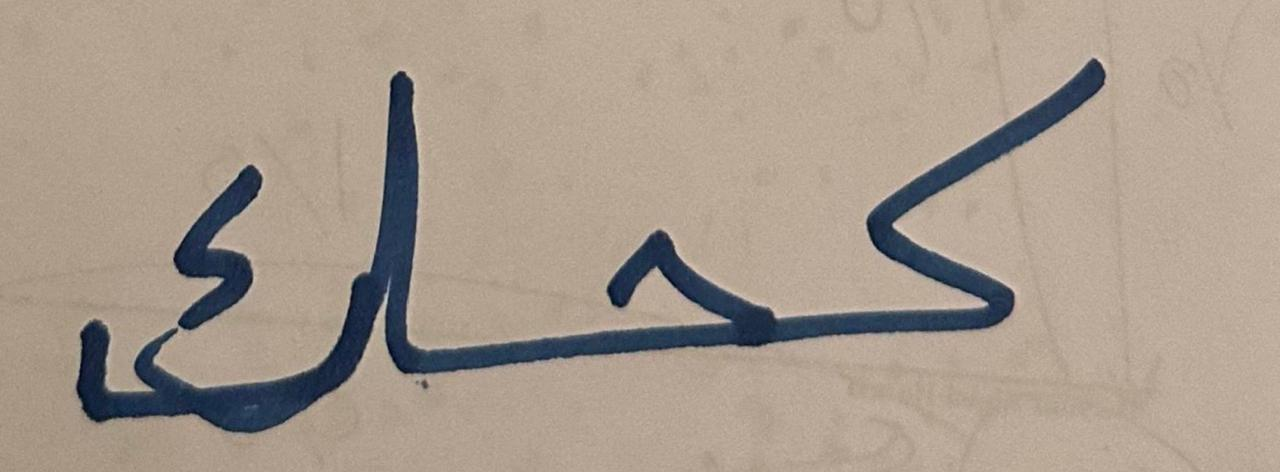hah: (463, 42, 787, 411)
khah: (22, 7, 459, 452), (791, 30, 1202, 413)
